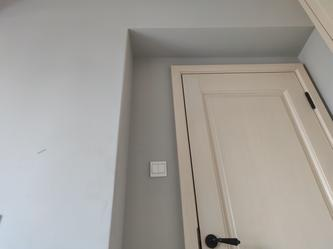switch: (159, 162, 166, 175), (150, 162, 157, 172)
